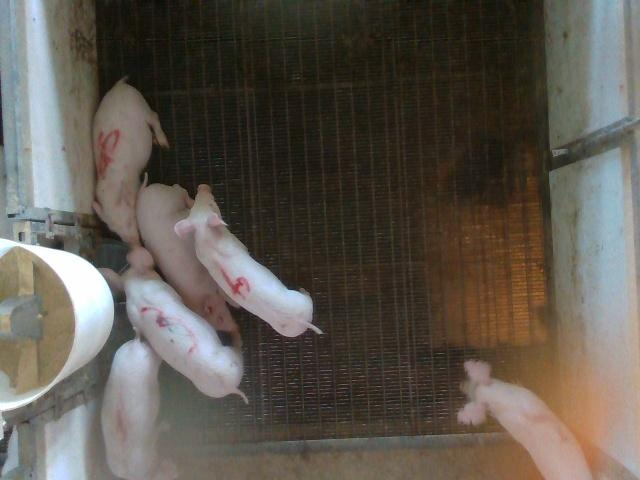pig-1: (99, 331, 161, 479)
pig-2: (458, 360, 592, 479)
pig-3: (98, 244, 249, 401)
pig-4: (176, 185, 320, 337)
pig-5: (92, 78, 169, 242)
